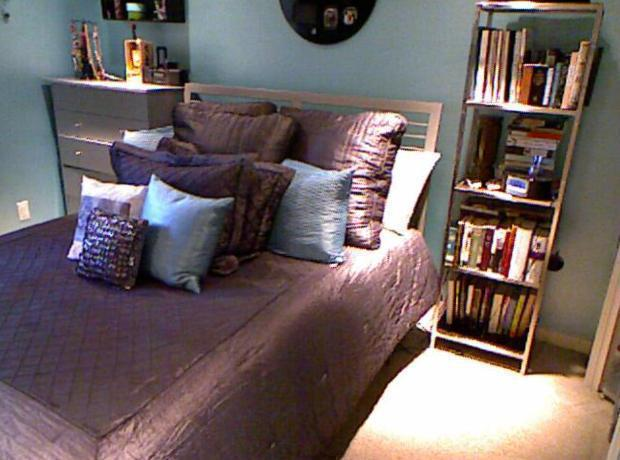Armario: (55, 83, 176, 259)
